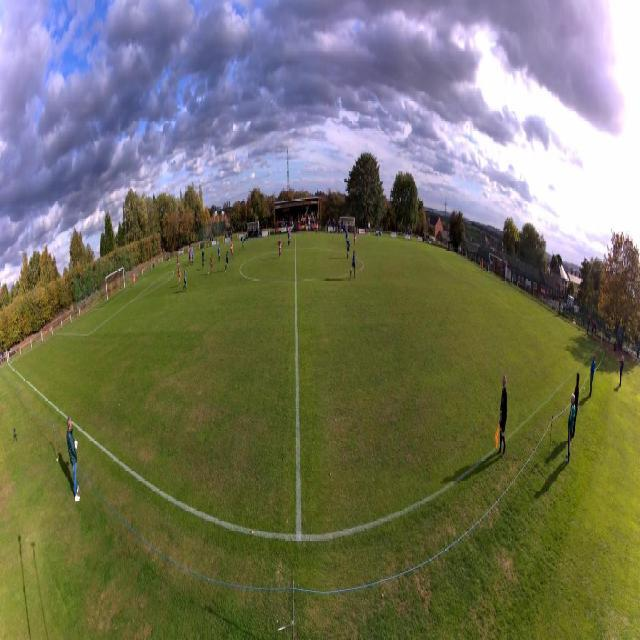ball: (208, 272, 209, 276)
player: (350, 249, 356, 280), (183, 269, 187, 293), (346, 238, 350, 260), (278, 237, 282, 258), (225, 251, 229, 272), (230, 240, 234, 259), (210, 255, 214, 274), (218, 242, 221, 263), (202, 249, 205, 270), (287, 228, 290, 247), (178, 268, 181, 286), (289, 227, 292, 245), (354, 231, 357, 248), (241, 234, 244, 250), (346, 228, 349, 244), (316, 219, 319, 235), (481, 258, 483, 275), (133, 272, 135, 288), (189, 249, 191, 265), (192, 252, 194, 266), (190, 250, 192, 264), (177, 256, 179, 268)
